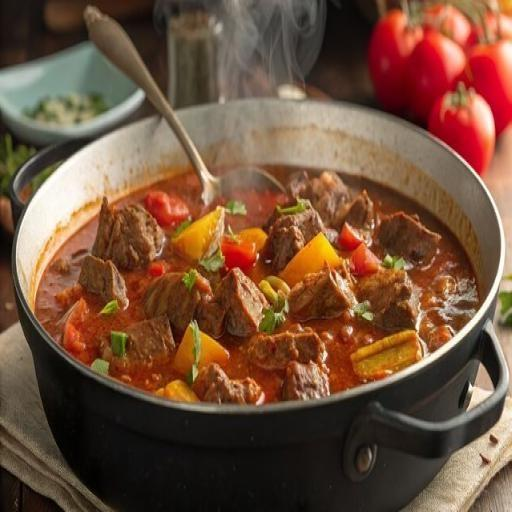pork caldereta: (23, 161, 479, 404)
